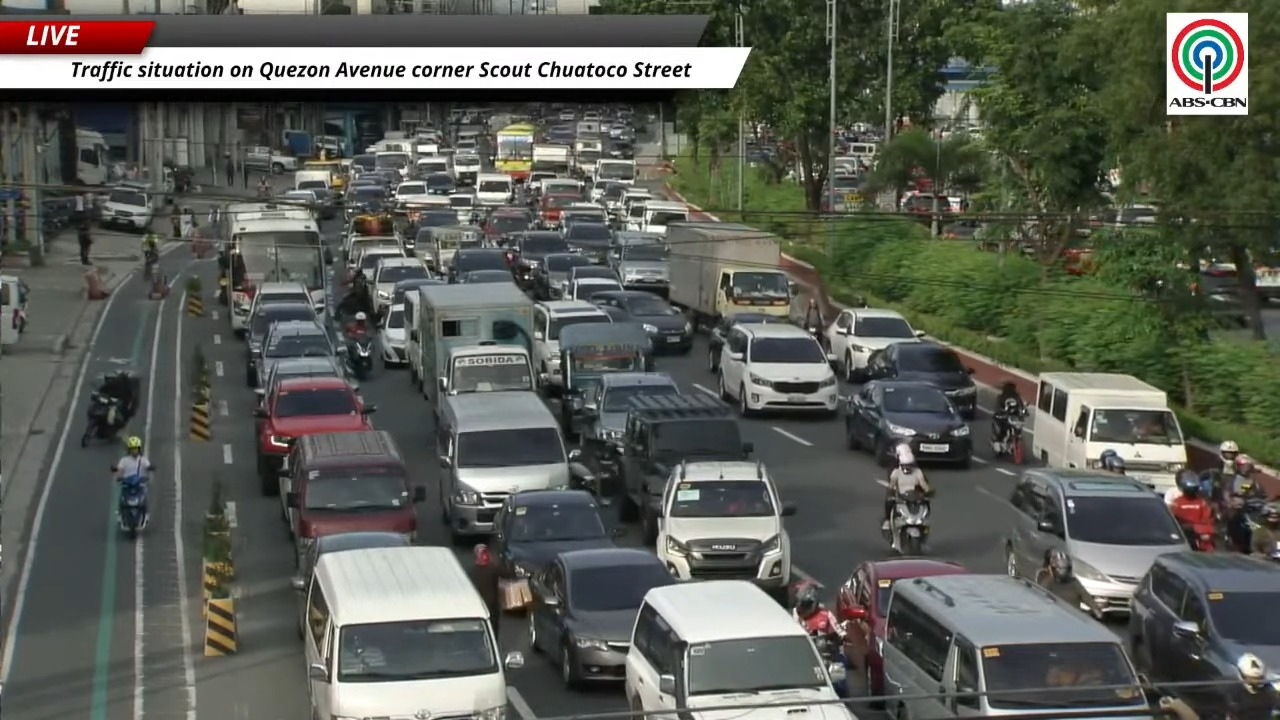bus: (219, 203, 329, 334), (495, 123, 537, 181)
car: (1004, 468, 1188, 614), (1128, 551, 1279, 712), (642, 460, 795, 600), (528, 548, 675, 687), (834, 558, 968, 696), (255, 377, 375, 495), (291, 531, 410, 635), (489, 489, 613, 578), (846, 380, 972, 467), (718, 324, 838, 415), (575, 372, 681, 473), (864, 339, 977, 419), (825, 308, 923, 381), (533, 301, 611, 391), (591, 290, 691, 354), (245, 301, 317, 387), (252, 320, 337, 386), (707, 312, 788, 373), (236, 281, 315, 336), (254, 357, 346, 404), (369, 255, 431, 310), (508, 230, 570, 284), (610, 243, 668, 296), (529, 252, 591, 299), (99, 182, 157, 231), (353, 245, 412, 281), (563, 220, 611, 264), (561, 263, 617, 298), (448, 249, 509, 281), (377, 303, 407, 366), (344, 183, 389, 219), (415, 207, 456, 246), (539, 190, 580, 229), (391, 278, 445, 304), (482, 212, 529, 241), (566, 277, 621, 301), (598, 183, 630, 224), (561, 202, 607, 229), (541, 177, 584, 203), (281, 190, 319, 217), (448, 188, 477, 223), (306, 188, 338, 219), (457, 269, 514, 284), (589, 180, 624, 203), (394, 181, 427, 205), (423, 173, 455, 195)
motorcycle: (882, 490, 930, 555), (810, 633, 850, 698), (80, 392, 125, 447), (117, 474, 148, 538), (991, 417, 1024, 464), (347, 334, 373, 381), (1179, 523, 1216, 552), (143, 248, 159, 283)
truck: (1028, 372, 1187, 491), (406, 284, 534, 412), (667, 221, 794, 326), (532, 144, 571, 175), (573, 139, 601, 178)
